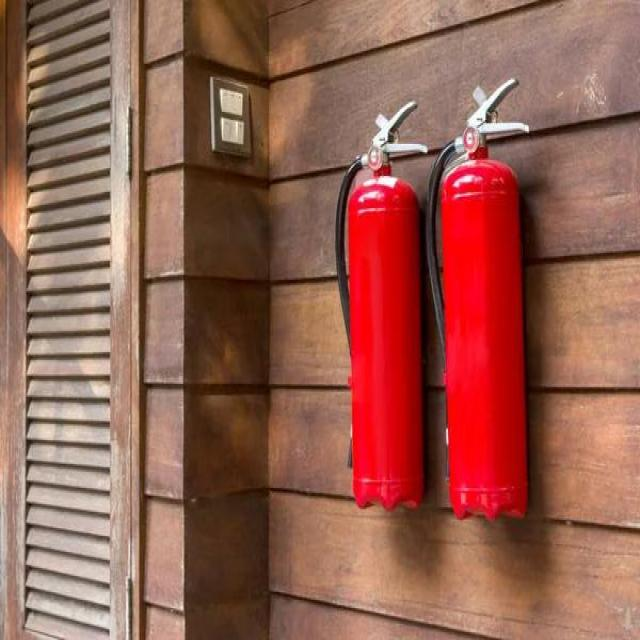fire_extinguisher: (422, 72, 534, 526), (333, 90, 434, 516)
